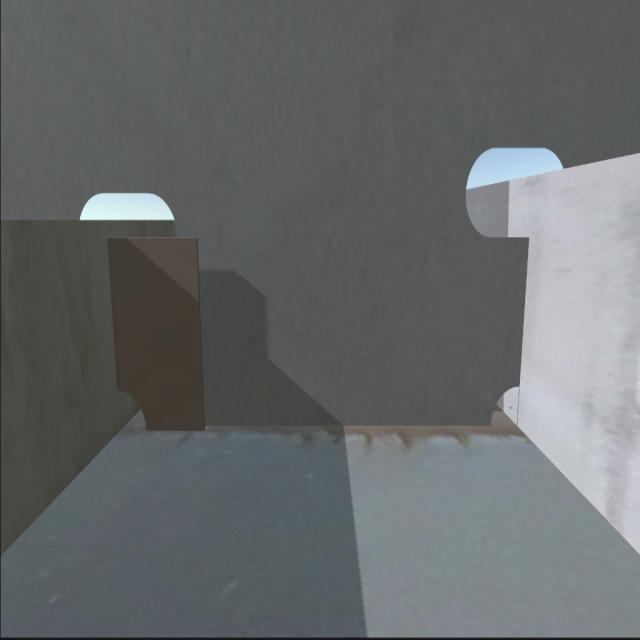fillet_hole: (486, 380, 521, 429), (116, 390, 150, 433)
fillet_yong_jeop_jang: (147, 418, 491, 437)
longi_yong_jeop_jang: (103, 241, 127, 391), (508, 238, 530, 386)
plate_CP01: (111, 233, 208, 436)
